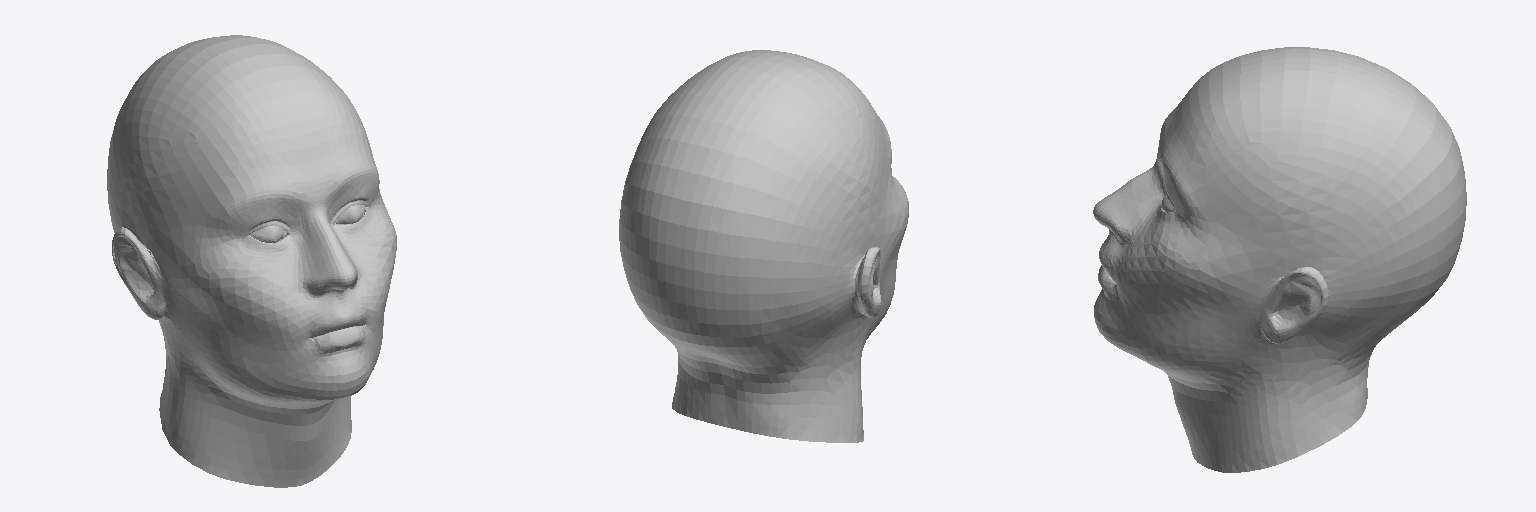
3 views of the same model, side by side, from view 1: azimuth 30°, elevation 25°; view 2: azimuth 150°, elevation 25°; view 3: azimuth 270°, elevation 25° (orthographic).
Visible parts, largest first — view 1: FaceGen; view 2: FaceGen; view 3: FaceGen.
Part boxes in pixels (bbox=[...]): FaceGen: bbox=[107, 35, 396, 487]; FaceGen: bbox=[619, 50, 908, 442]; FaceGen: bbox=[1093, 47, 1466, 472].
Size of the model in its own units: 181 by 278 by 238.